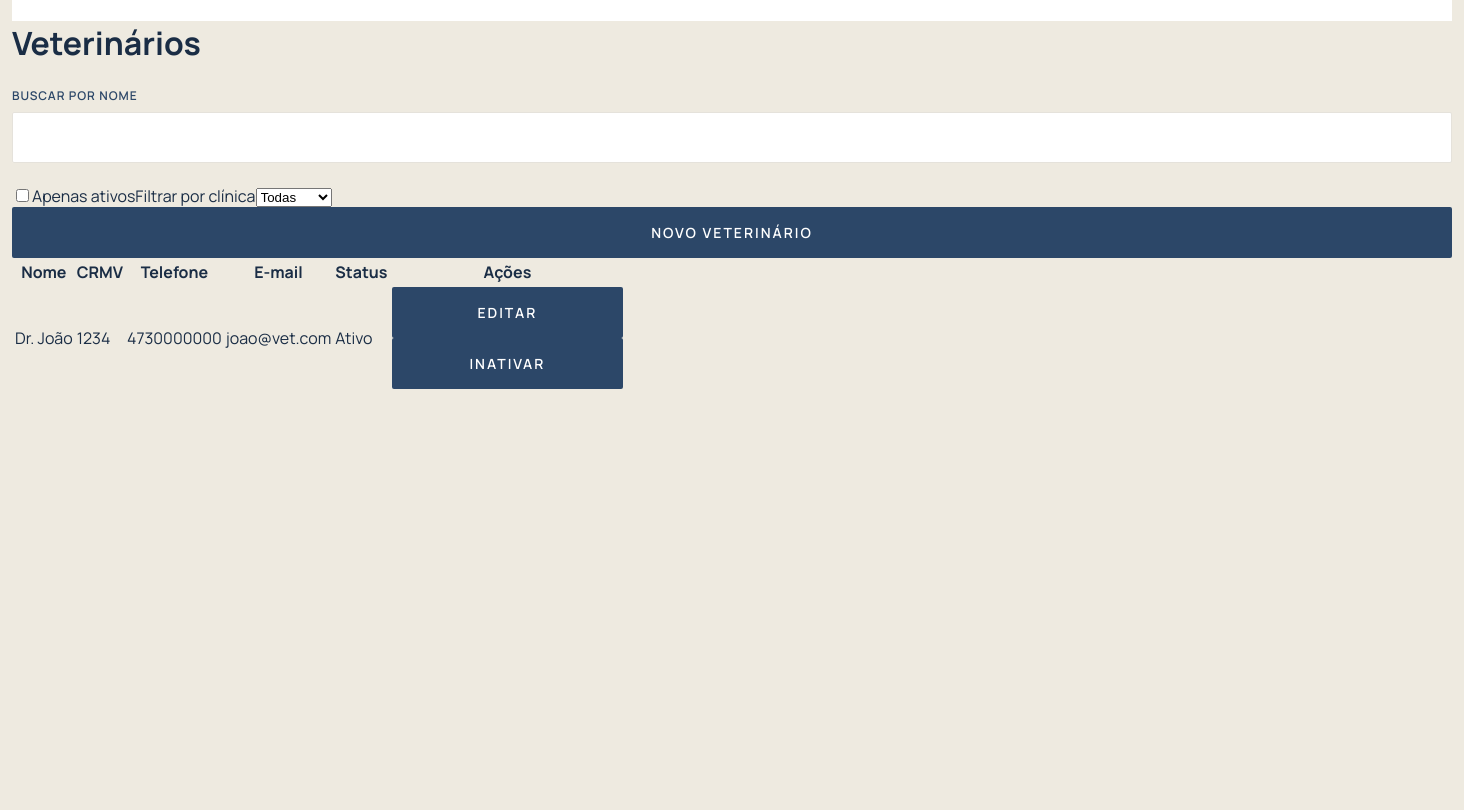
Test: TelaVeterinarios — formulários fecham só com sucesso (US1) › "Cancelar" na edição descarta a alteração: reabrir mostra o valor original
Click the button "Editar" at (507, 312), box [392,287,623,338]
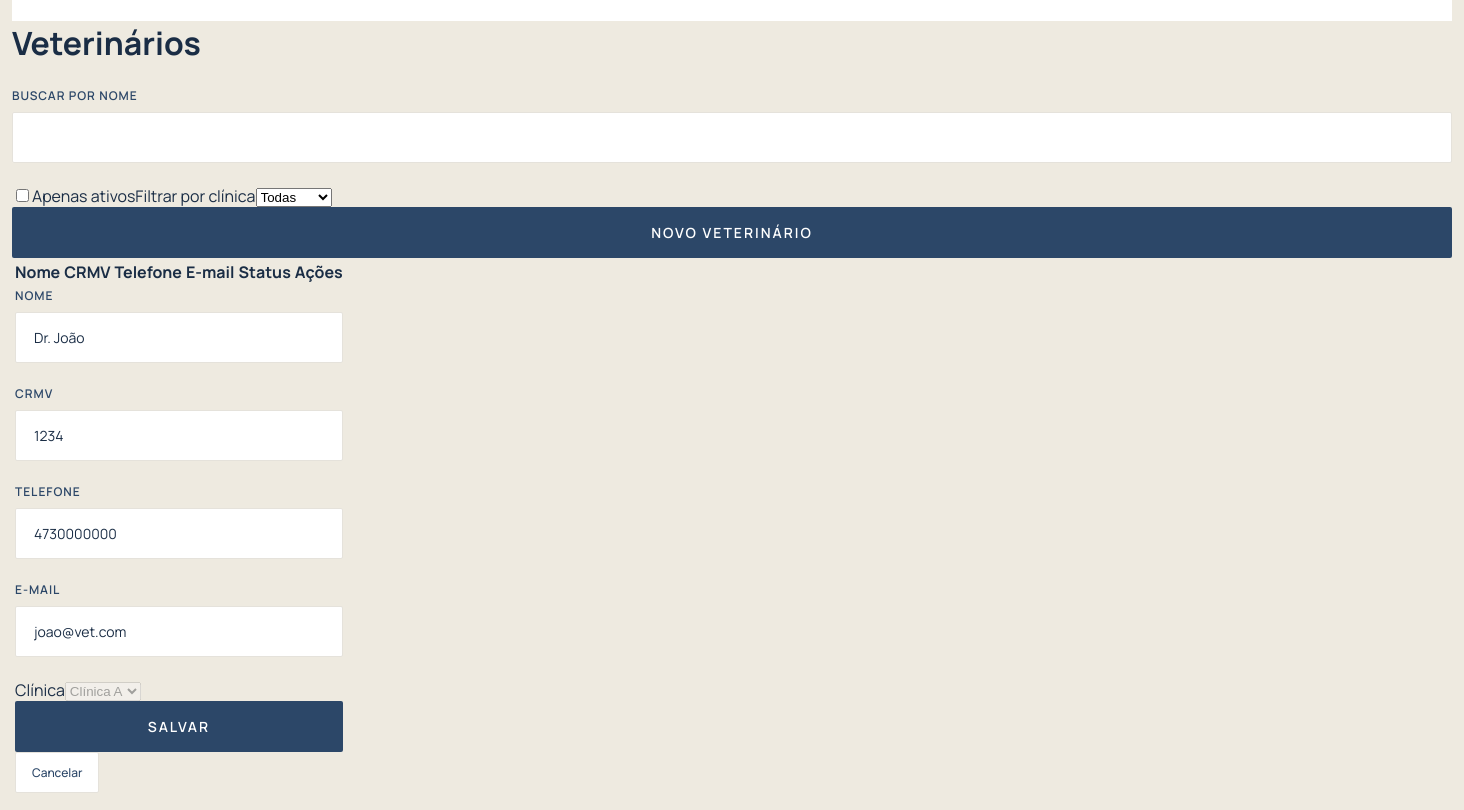
Replace the text in the field labelled "Telefone" with "999" at (179, 533), box [32,523,326,544]
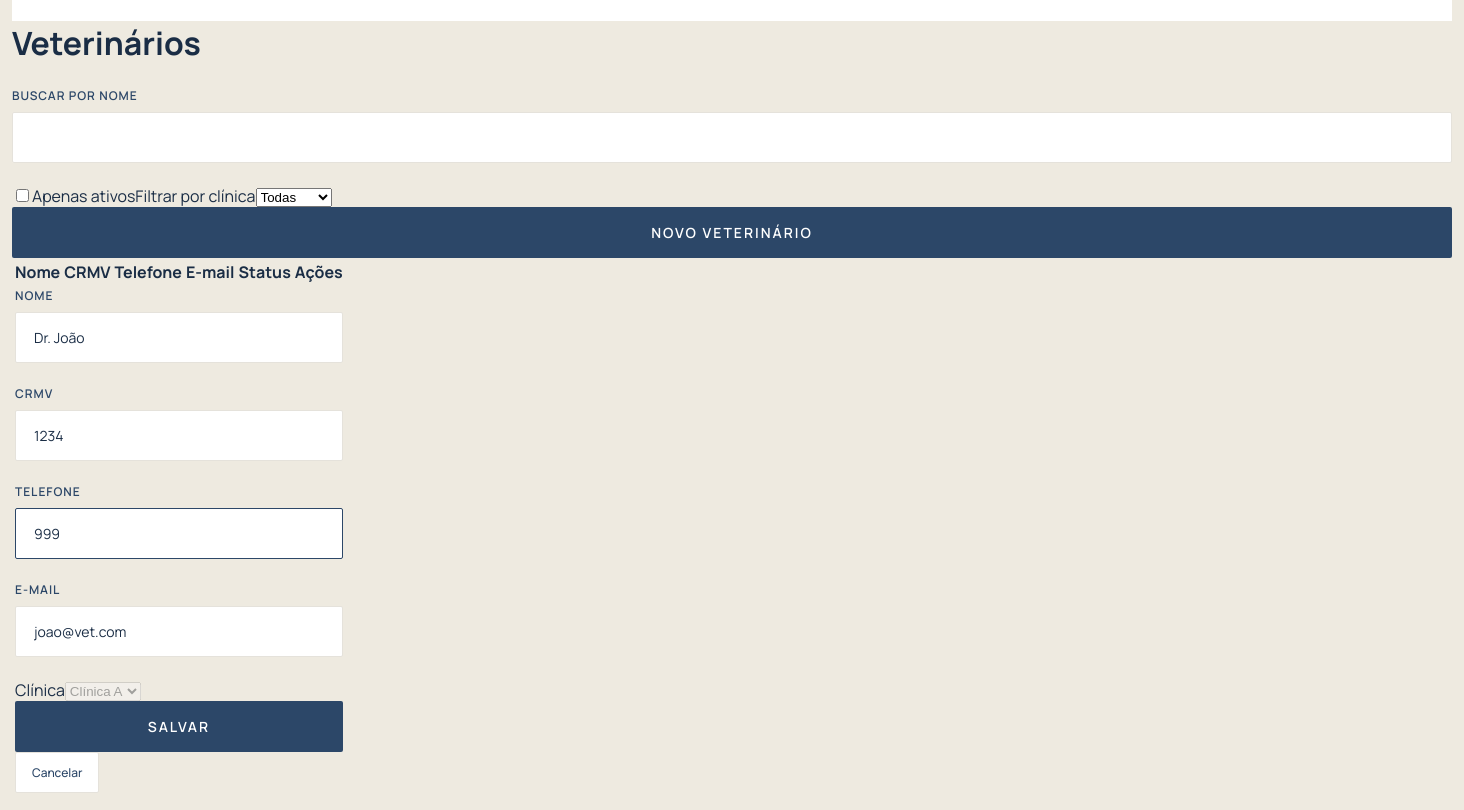
Click the button "Cancelar" at (57, 772), box [15,752,100,793]
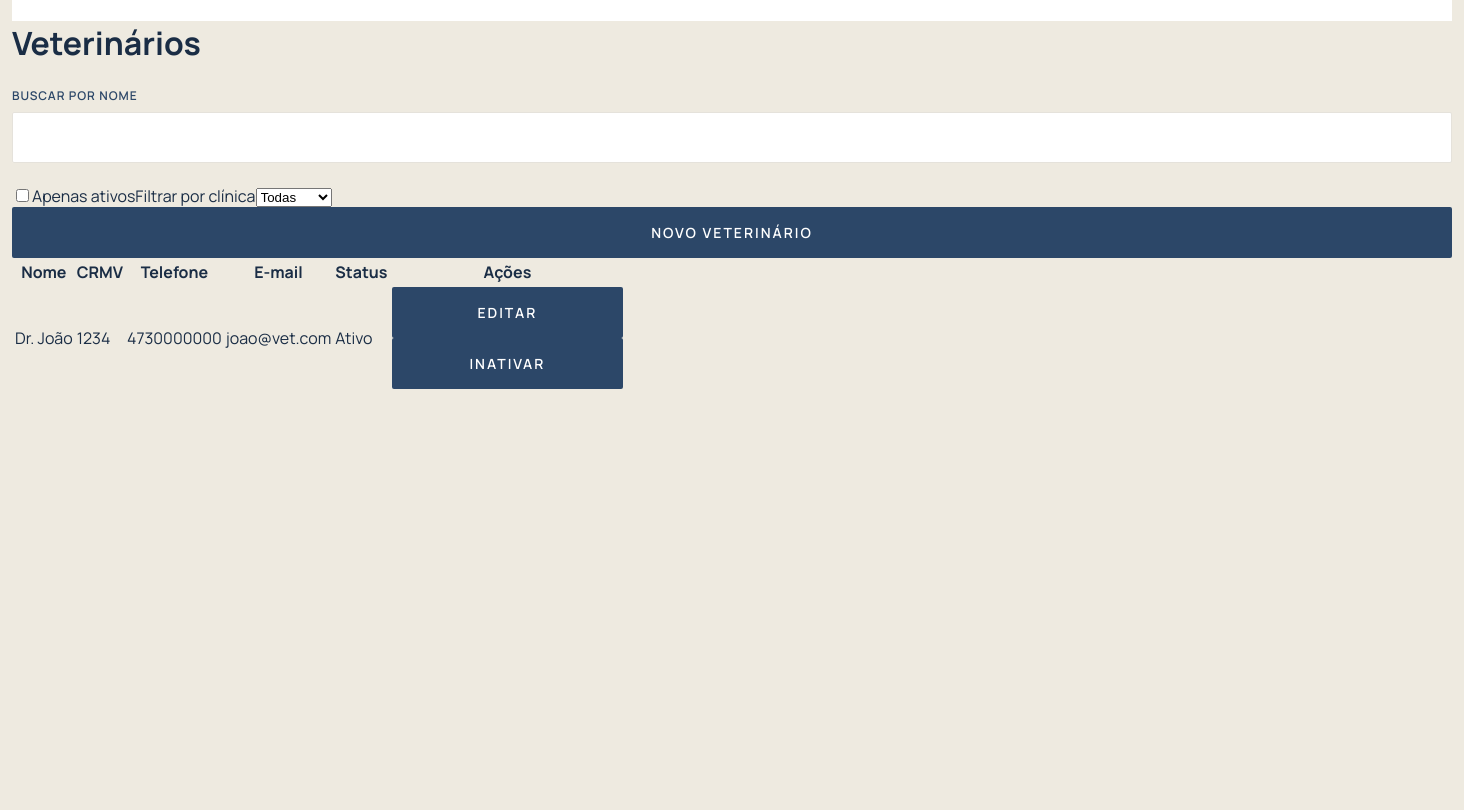
Click the button "Editar" at (507, 312), box [392,287,623,338]
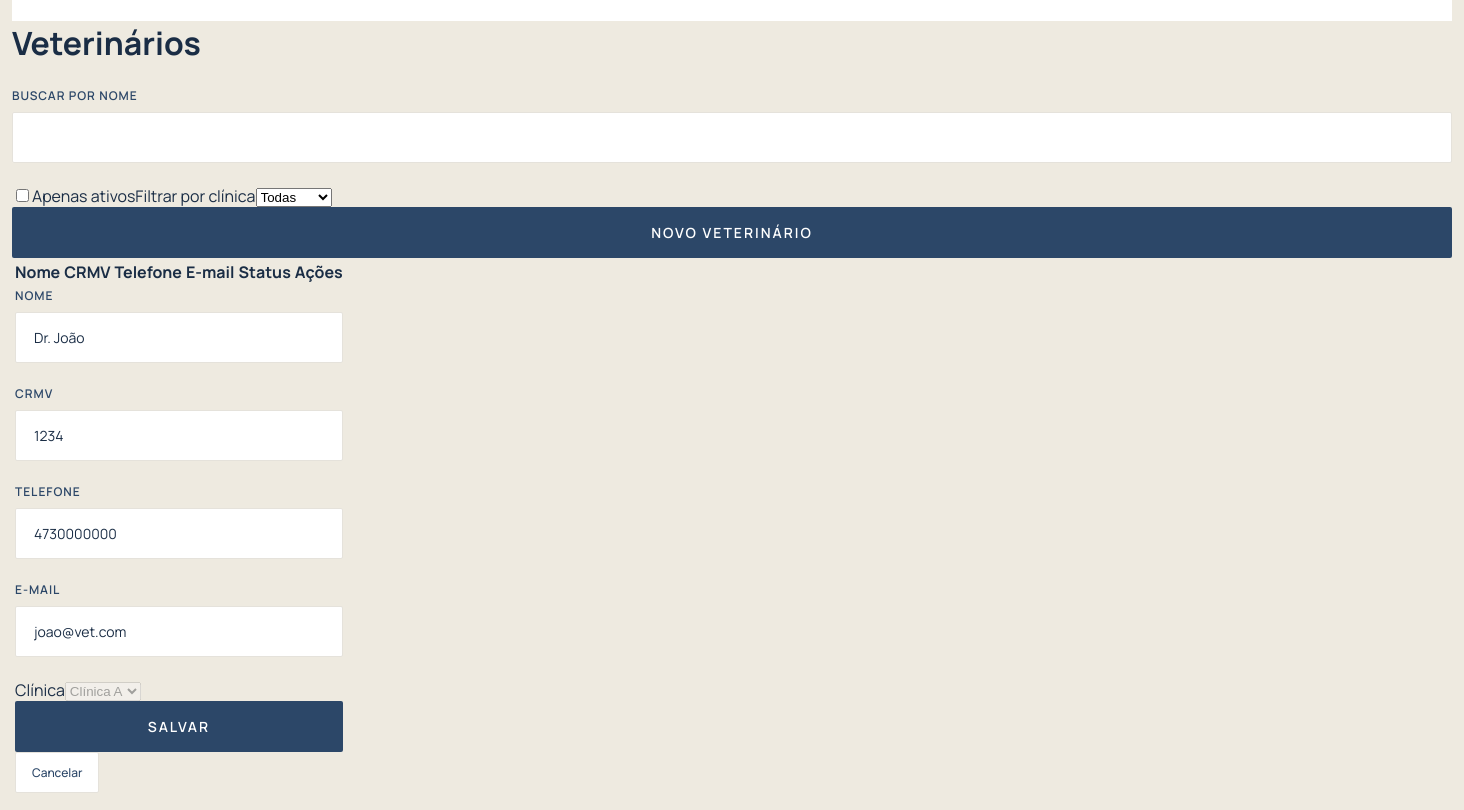
expect the field labelled "Telefone" holds "4730000000": met, box [32,523,326,544]
